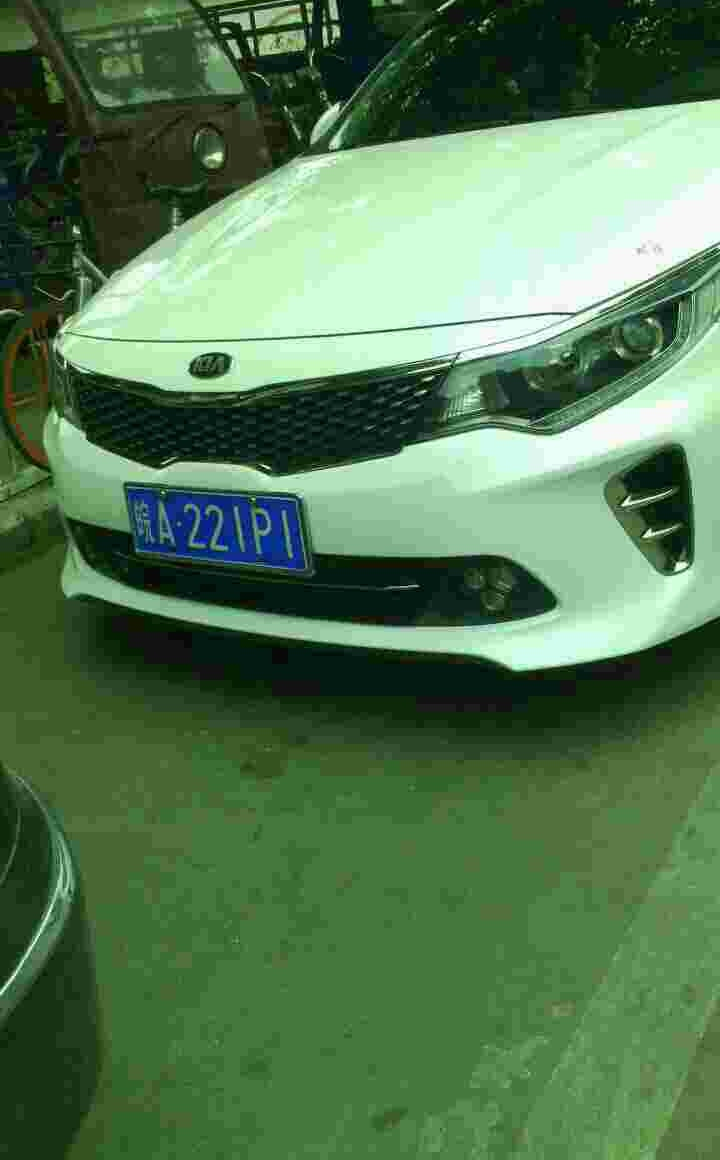license_plate: (123, 486, 307, 579)
